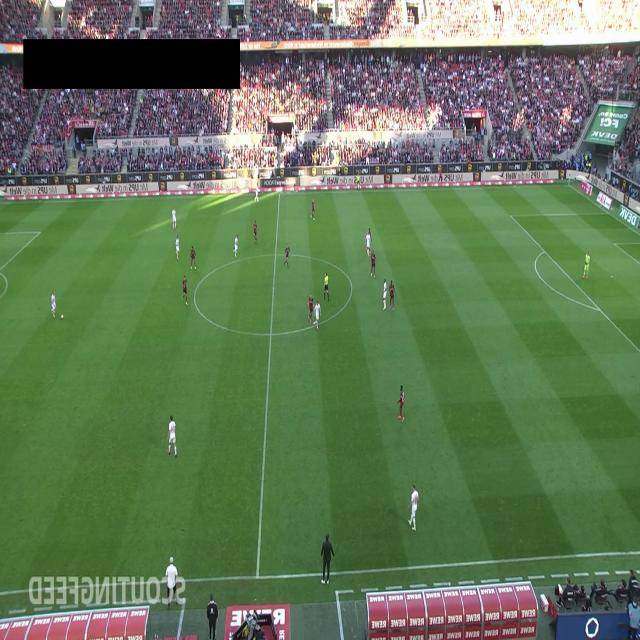ball: (60, 313, 64, 320)
goalkeeper: (582, 250, 590, 279)
player: (408, 484, 419, 531), (167, 414, 177, 458), (398, 385, 405, 423), (313, 300, 321, 330), (389, 280, 395, 311), (190, 244, 197, 270), (308, 292, 314, 322), (182, 275, 188, 305), (382, 278, 387, 310), (324, 271, 329, 301), (284, 243, 290, 268), (371, 250, 376, 278), (51, 290, 56, 318), (233, 235, 239, 258), (310, 199, 316, 221), (175, 235, 180, 260), (367, 228, 372, 252), (254, 182, 260, 201), (366, 232, 370, 256), (253, 220, 257, 243), (172, 207, 176, 230), (356, 173, 361, 191)
